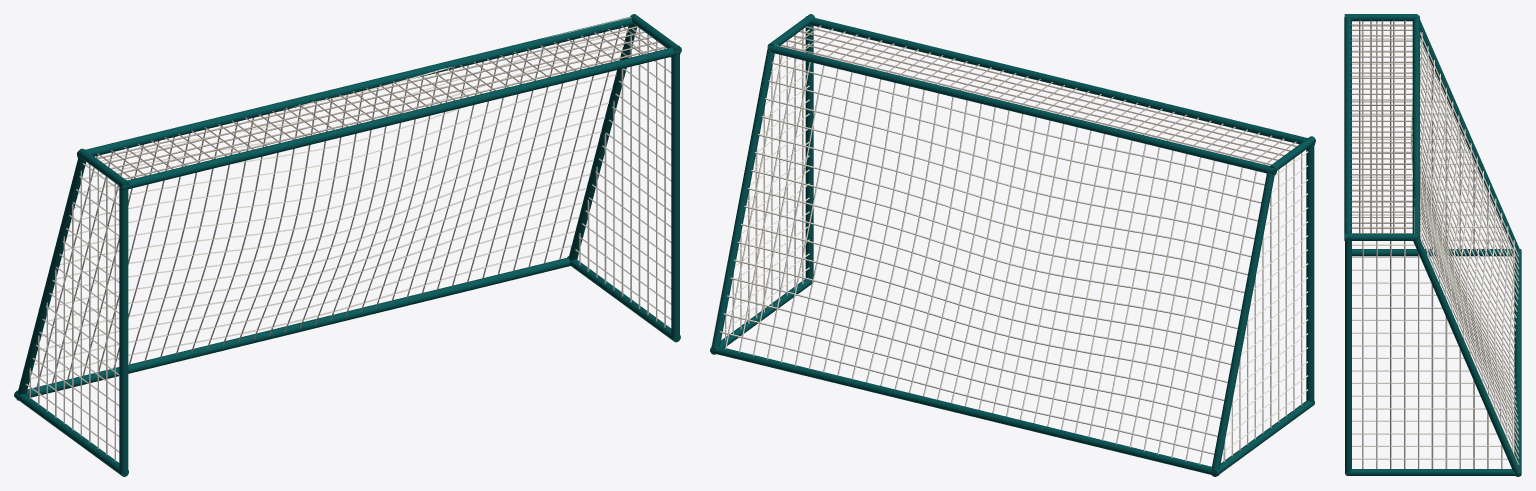
File: Football.fbx
3 renders of one model, left to right at view 1: azimuth 30°, elevation 25°; view 2: azimuth 150°, elevation 25°; view 3: azimuth 270°, elevation 25°, orthographic. The views are drawn at different scales.
Parts seen in each view (by area): view 1: Football; view 2: Football; view 3: Football.
Boxes of the visible parts, bbox=[...] form: Football: bbox=[14, 14, 681, 476]; Football: bbox=[710, 14, 1315, 476]; Football: bbox=[1344, 14, 1521, 476].
Size of the model in its own units: 311 by 157 by 105.
